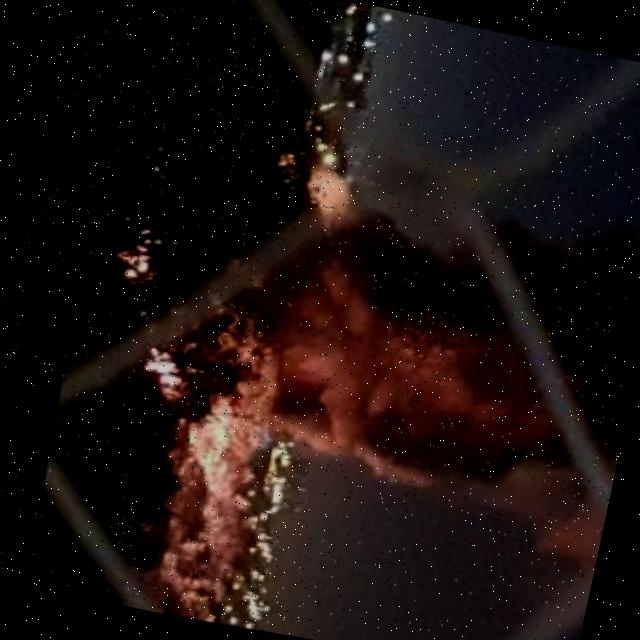fire: (167, 394, 242, 502), (134, 350, 190, 410), (114, 242, 152, 286)
